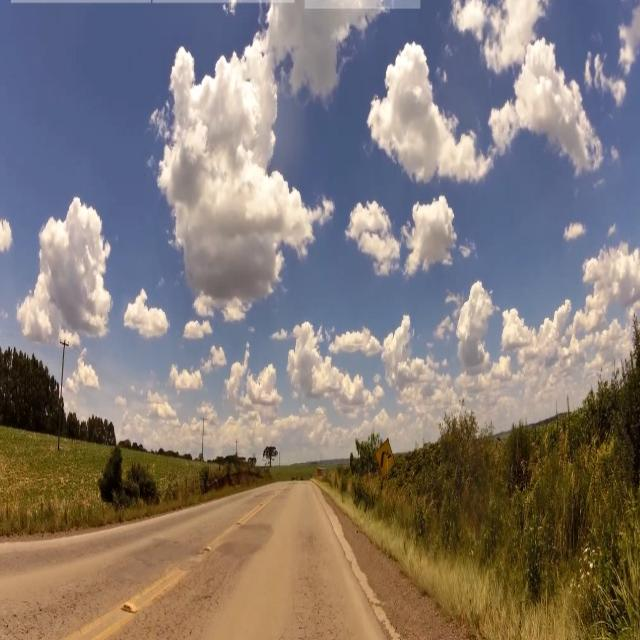A-1b: (376, 437, 398, 484)
